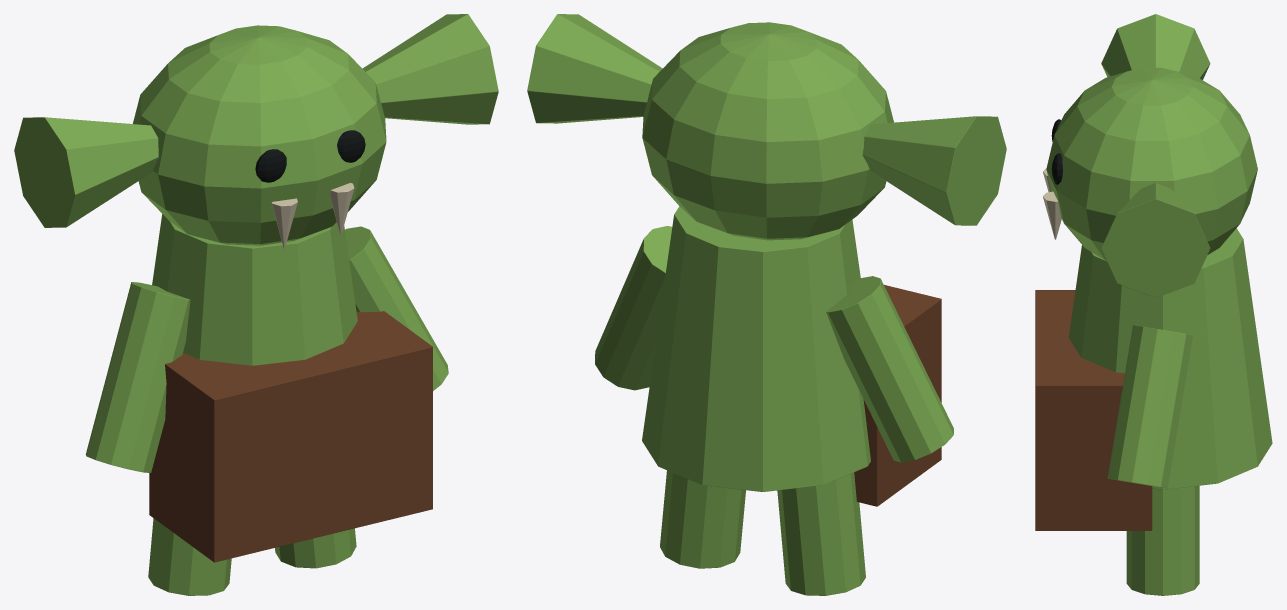
File: CH_Goblin.fbx
3 renders of one model, left to right at view 1: azimuth 30°, elevation 25°; view 2: azimuth 150°, elevation 25°; view 3: azimuth 270°, elevation 25°, orthographic. The views are drawn at different scales.
Visible parts, largest first — view 1: CH_Goblin; view 2: CH_Goblin; view 3: CH_Goblin.
Boxes of the visible parts, left/top/right/bottom form: CH_Goblin: left=14, top=14, right=498, bottom=595; CH_Goblin: left=527, top=14, right=1006, bottom=595; CH_Goblin: left=1035, top=14, right=1272, bottom=595.
Bounding box in the file's own units: 120 × 64.99 × 145.
